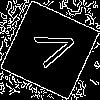V: (25, 25, 79, 72)
